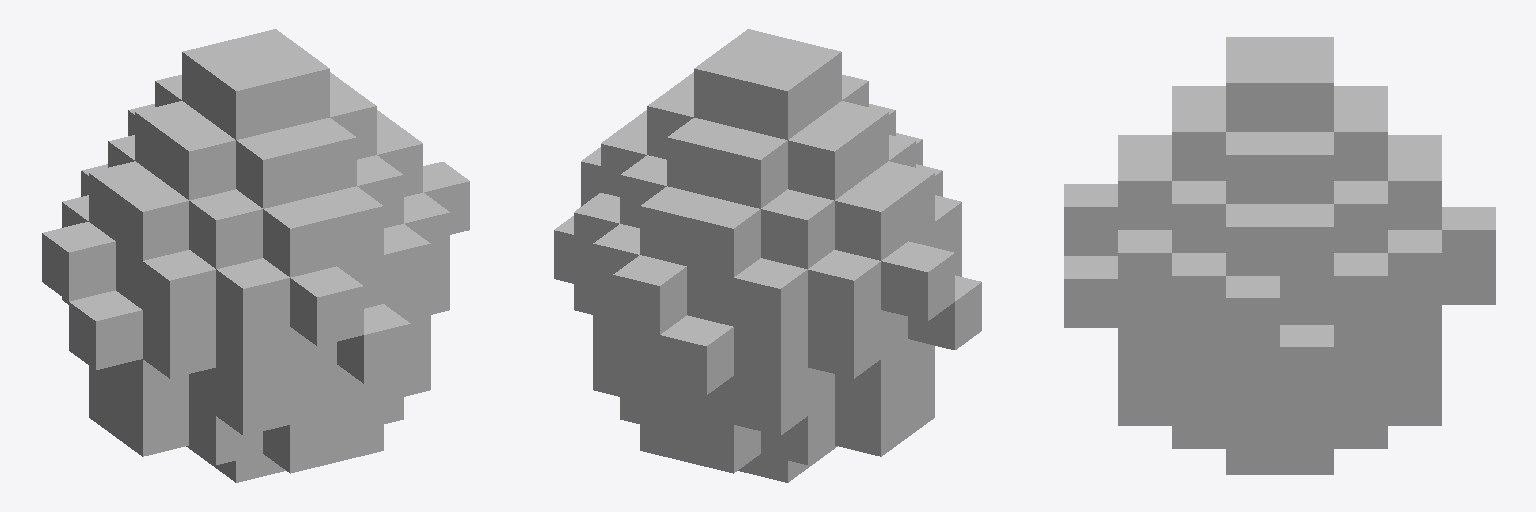
The model's file is Gem_03.obj.
The picture shows the model from 3 angles: view 1: azimuth 30°, elevation 25°; view 2: azimuth 150°, elevation 25°; view 3: azimuth 270°, elevation 25°; orthographic projection.
Visible parts, largest first — view 1: Gem_03; view 2: Gem_03; view 3: Gem_03.
Boxes of the visible parts, x1,y1,x2,y2 form: Gem_03: [42, 29, 469, 482]; Gem_03: [554, 29, 981, 482]; Gem_03: [1064, 37, 1495, 474].
Size of the model in its own units: 8 by 8 by 8.